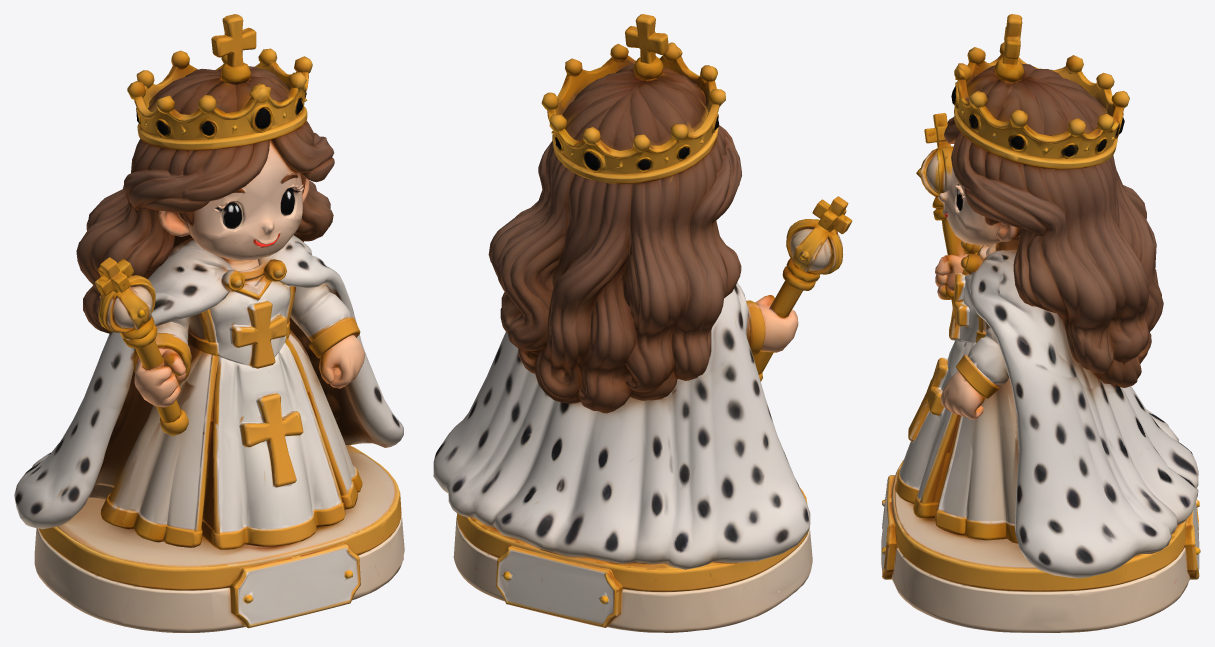
File: child-crusader-q-mobile50.glb
3 views of the same model, side by side, from view 1: azimuth 30°, elevation 25°; view 2: azimuth 150°, elevation 25°; view 3: azimuth 270°, elevation 25° (orthographic). The views are drawn at different scales.
Parts seen in each view (by area): view 1: node_0; view 2: node_0; view 3: node_0.
Boxes of the visible parts, x1,y1,x2,y2 form: node_0: (14, 14, 404, 632); node_0: (433, 14, 852, 632); node_0: (881, 14, 1200, 632).
Size of the model in its own units: 0.7227 by 1.03 by 0.5492.
Materials: 1 (1 with a texture image).
